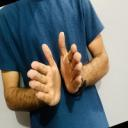hand: (26, 43, 61, 106), (57, 31, 83, 94)
